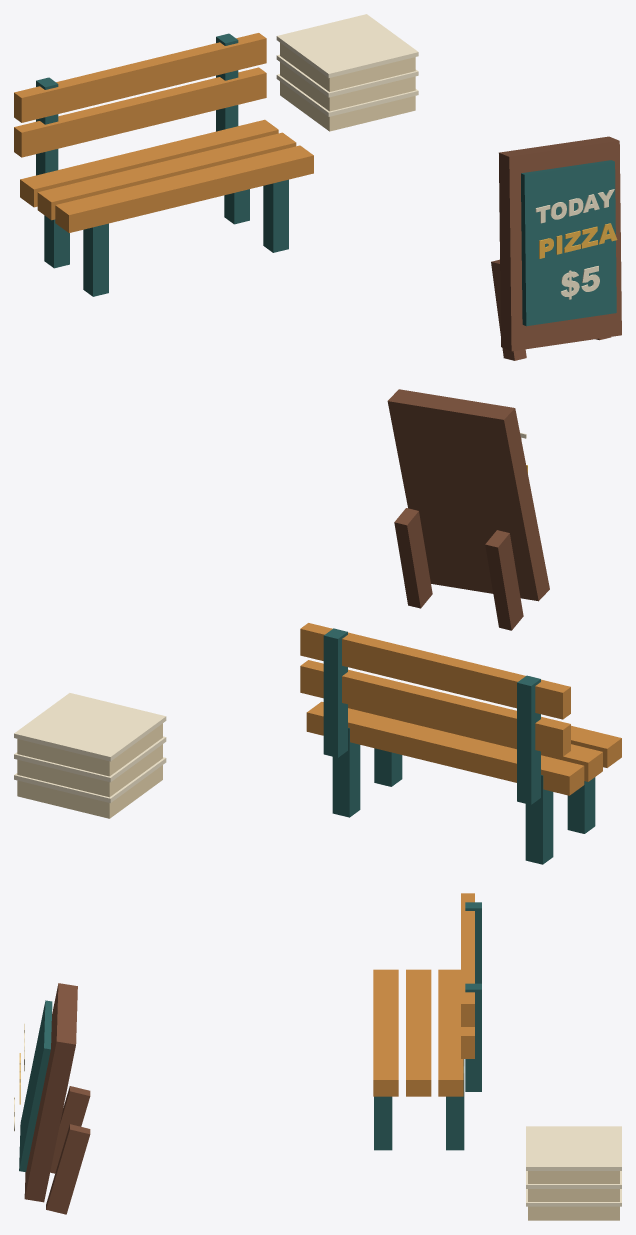
File: street_details.glb
3 views of the same model, one above another, from view 1: azimuth 30°, elevation 25°; view 2: azimuth 150°, elevation 25°; view 3: azimuth 270°, elevation 25° (orthographic). The views are drawn at different scales.
Visible parts, largest first — view 1: Menu_board_002, Menu_back_001, Bench_back_012, Bench_back_011, Bench_seat_010, Box_lid_024, Bench_seat_009, Bench_seat_008, Takeaway_box_019, Takeaway_box_021, Takeaway_box_023, Bench_foot_014 (+11 smaller); view 2: Menu_back_001, Bench_back_012, Bench_back_011, Bench_seat_008, Box_lid_024, Bench_upright_018, Bench_upright_015, Menu_leg_006, Menu_leg_007, Takeaway_box_019, Takeaway_box_021, Takeaway_box_023 (+8 smaller); view 3: Menu_back_001, Box_lid_024, Bench_seat_010, Bench_seat_009, Bench_seat_008, Menu_board_002, Menu_leg_007, Bench_back_012, Takeaway_box_019, Menu_leg_006, Takeaway_box_021, Takeaway_box_023 (+6 smaller).
Part boxes in pixels (x1,y1,x2,y2): Menu_board_002: (521, 160, 616, 326); Menu_back_001: (499, 136, 621, 351); Bench_back_012: (14, 33, 266, 122); Bench_back_011: (14, 67, 266, 157); Bench_seat_010: (55, 145, 313, 232); Box_lid_024: (276, 14, 418, 77); Bench_seat_009: (37, 132, 296, 220); Bench_seat_008: (20, 119, 278, 207); Takeaway_box_019: (280, 81, 415, 131); Takeaway_box_021: (280, 62, 415, 111); Takeaway_box_023: (280, 43, 415, 91); Bench_foot_014: (83, 223, 108, 296); Menu_back_001: (387, 389, 549, 601); Bench_back_012: (300, 623, 570, 719); Bench_back_011: (300, 660, 570, 756); Bench_seat_008: (306, 701, 584, 795); Box_lid_024: (14, 693, 166, 761); Bench_upright_018: (323, 628, 347, 757); Bench_upright_015: (517, 675, 540, 804); Menu_leg_006: (485, 530, 523, 630); Menu_leg_007: (394, 508, 432, 608); Takeaway_box_019: (17, 765, 162, 818); Takeaway_box_021: (17, 744, 162, 797); Takeaway_box_023: (17, 723, 162, 776); Menu_back_001: (24, 983, 77, 1202); Box_lid_024: (526, 1126, 621, 1170); Bench_seat_010: (373, 969, 398, 1096); Bench_seat_009: (406, 969, 431, 1096); Bench_seat_008: (438, 969, 463, 1096); Menu_board_002: (19, 1000, 52, 1171); Menu_leg_007: (46, 1124, 90, 1214); Bench_back_012: (461, 893, 474, 1026); Takeaway_box_019: (528, 1206, 619, 1220); Menu_leg_006: (50, 1086, 90, 1173); Takeaway_box_021: (528, 1189, 619, 1201); Takeaway_box_023: (528, 1171, 619, 1183).
Size of the model in its own units: 3.26 by 1.48 by 4.3.
